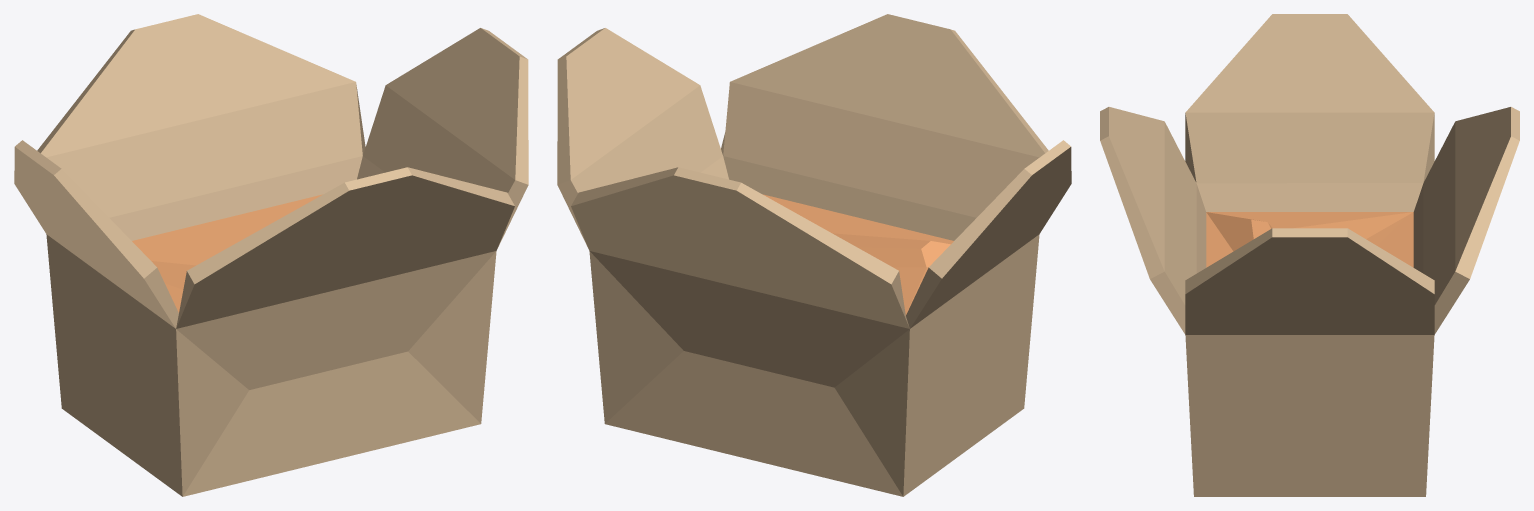
File: food_container-take.fbx
3 views of the same model, side by side, from view 1: azimuth 30°, elevation 25°; view 2: azimuth 150°, elevation 25°; view 3: azimuth 270°, elevation 25° (orthographic). The views are drawn at different scales.
Visible parts, largest first — view 1: food_container_take; view 2: food_container_take; view 3: food_container_take.
Boxes of the visible parts, bbox=[...] form: food_container_take: bbox=[14, 14, 528, 496]; food_container_take: bbox=[557, 14, 1071, 496]; food_container_take: bbox=[1100, 14, 1519, 496].
Bounding box in the file's own units: 200 × 128 × 160.
